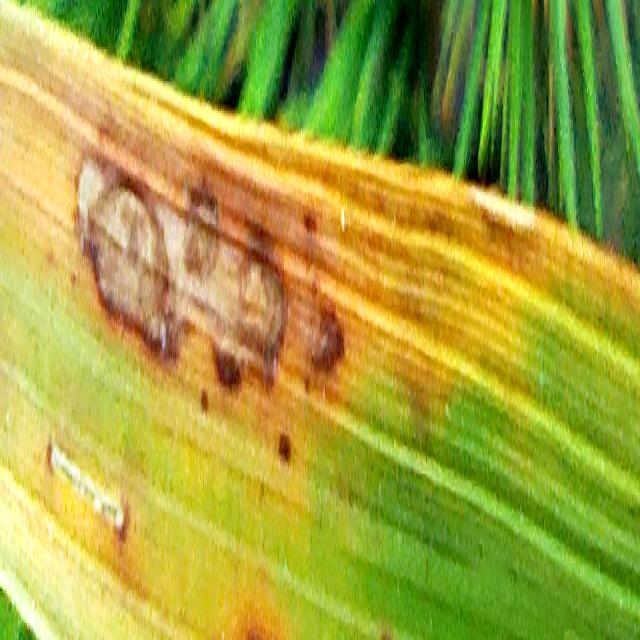LEAF BLAST: (78, 156, 285, 386), (48, 444, 125, 533), (310, 301, 344, 371), (248, 634, 263, 640)
